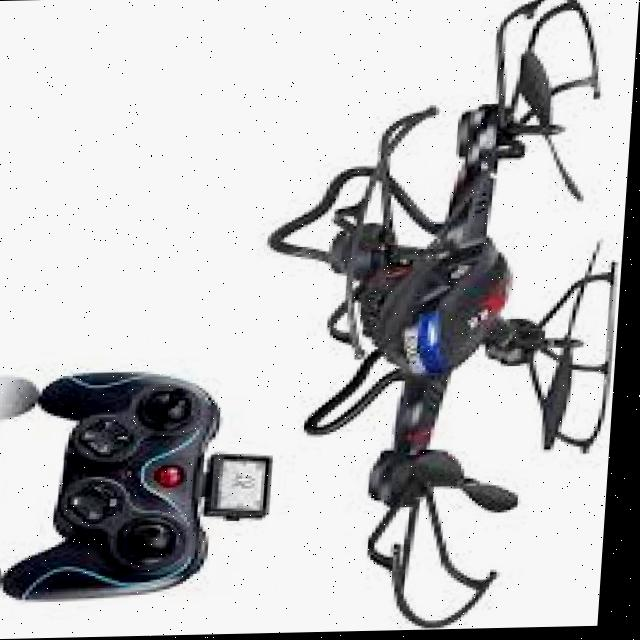drone: (246, 0, 640, 635)
